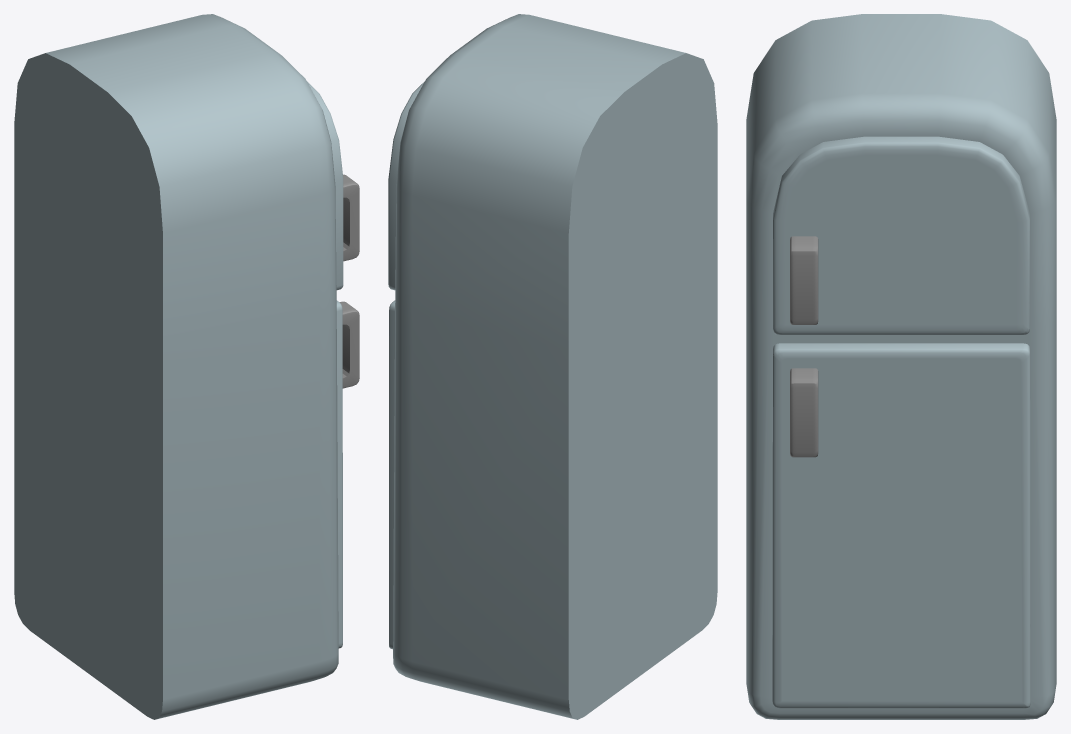
File: Fridge.FBX
3 views of the same model, side by side, from view 1: azimuth 30°, elevation 25°; view 2: azimuth 150°, elevation 25°; view 3: azimuth 270°, elevation 25° (orthographic). The views are drawn at different scales.
Visible parts, largest first — view 1: Fridge; view 2: Fridge; view 3: Fridge.
Part boxes in pixels (x1,y1,x2,y2): Fridge: (14, 14, 359, 719); Fridge: (388, 14, 717, 719); Fridge: (746, 14, 1056, 719).
Size of the model in its own units: 14.98 by 38.95 by 17.65.
